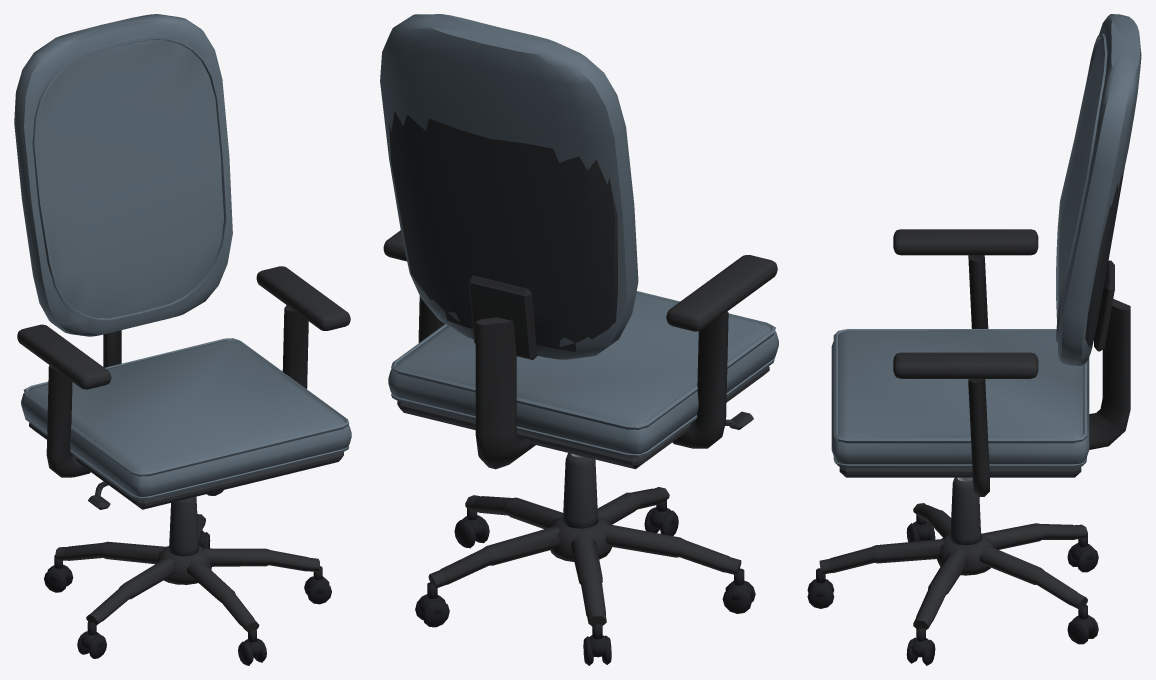
Rendered from officeChair.glb.
The picture shows the model from 3 angles, left to right: view 1: azimuth 30°, elevation 25°; view 2: azimuth 150°, elevation 25°; view 3: azimuth 270°, elevation 25°; orthographic projection. The views are drawn at different scales.
Visible parts, largest first — view 1: seat, base; view 2: seat, base; view 3: seat, base.
Part boxes in pixels (x1=…): seat: x1=14, y1=14, x2=351, y2=509; base: x1=44, y1=497, x2=331, y2=665; seat: x1=380, y1=14, x2=778, y2=469; base: x1=415, y1=453, x2=755, y2=665; seat: x1=831, y1=14, x2=1141, y2=496; base: x1=807, y1=477, x2=1098, y2=665.
Bounding box in the file's own units: 0.614 × 1.16 × 0.6223.
